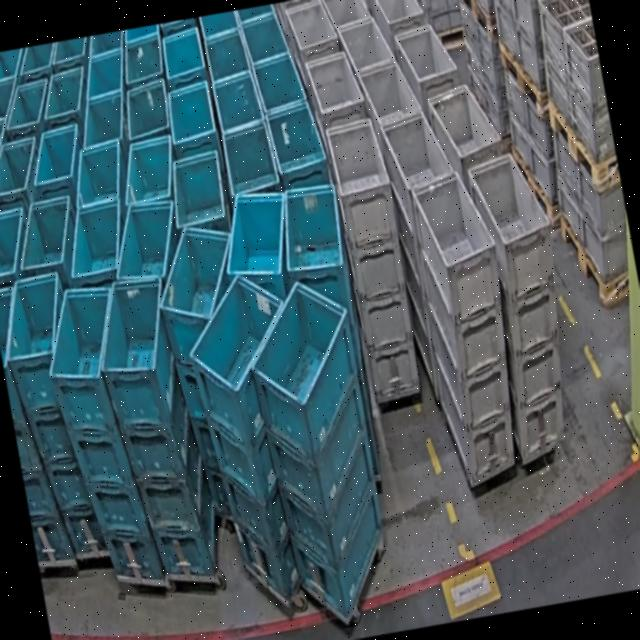4G: (409, 165, 535, 488), (464, 147, 590, 466), (322, 115, 428, 403)
B4: (237, 272, 400, 628), (177, 266, 336, 614), (85, 268, 228, 591), (34, 278, 164, 597), (145, 217, 280, 522), (0, 271, 110, 563)
